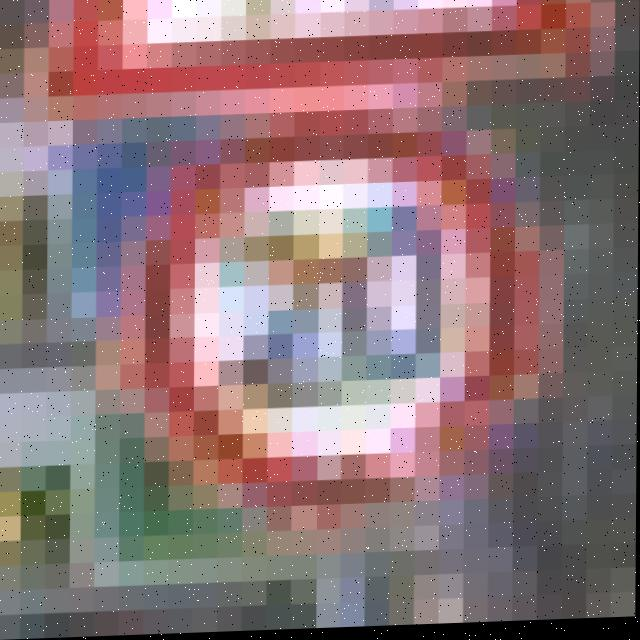speed_limit_20: (120, 90, 577, 518)
